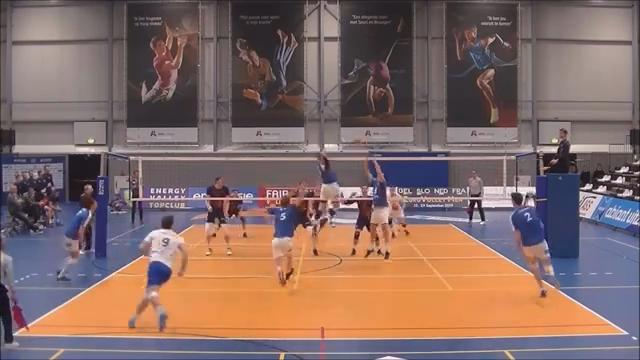alzata: (360, 154, 394, 264)
attacco: (309, 148, 337, 230)
